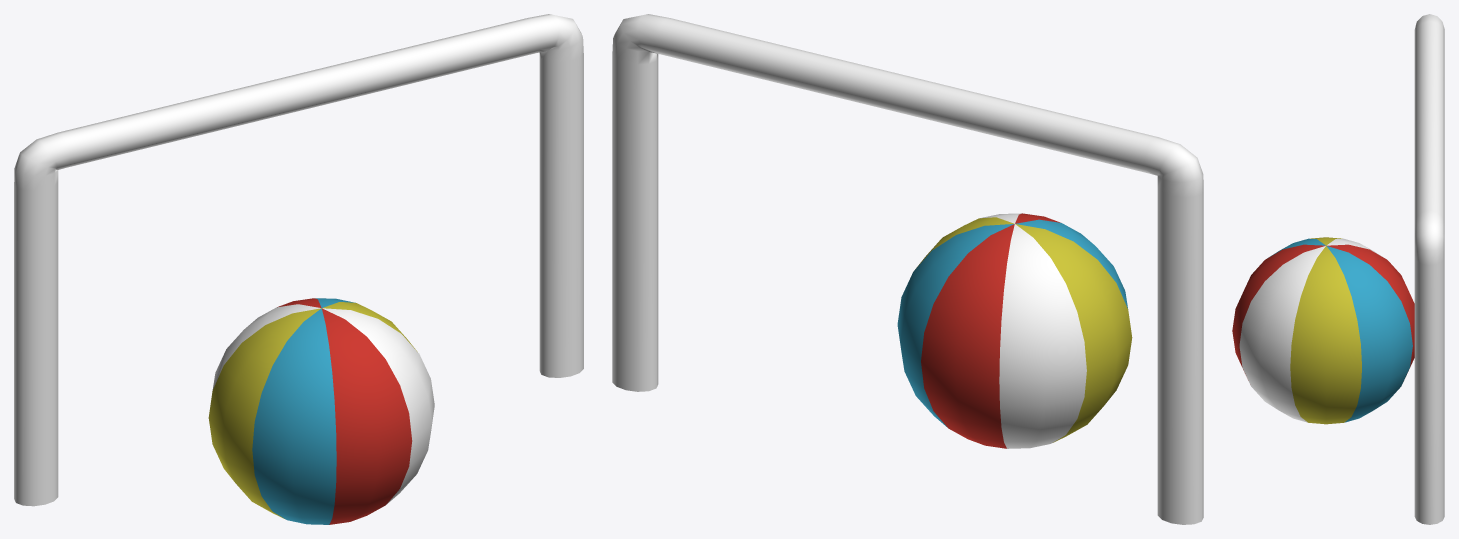
File: FootBall.fbx
The picture shows the model from 3 angles, left to right: view 1: azimuth 30°, elevation 25°; view 2: azimuth 150°, elevation 25°; view 3: azimuth 270°, elevation 25°; orthographic projection. The views are drawn at different scales.
Parts seen in each view (by area): view 1: GolBar, Bola; view 2: GolBar, Bola; view 3: Bola, GolBar.
Boxes of the visible parts, x1,y1,x2,y2 form: GolBar: (14, 14, 583, 506); Bola: (208, 298, 434, 524); GolBar: (612, 14, 1203, 524); Bola: (897, 213, 1132, 448); Bola: (1232, 237, 1414, 424); GolBar: (1414, 14, 1444, 524).
Size of the model in its own units: 70.67 by 45.71 by 27.88.
